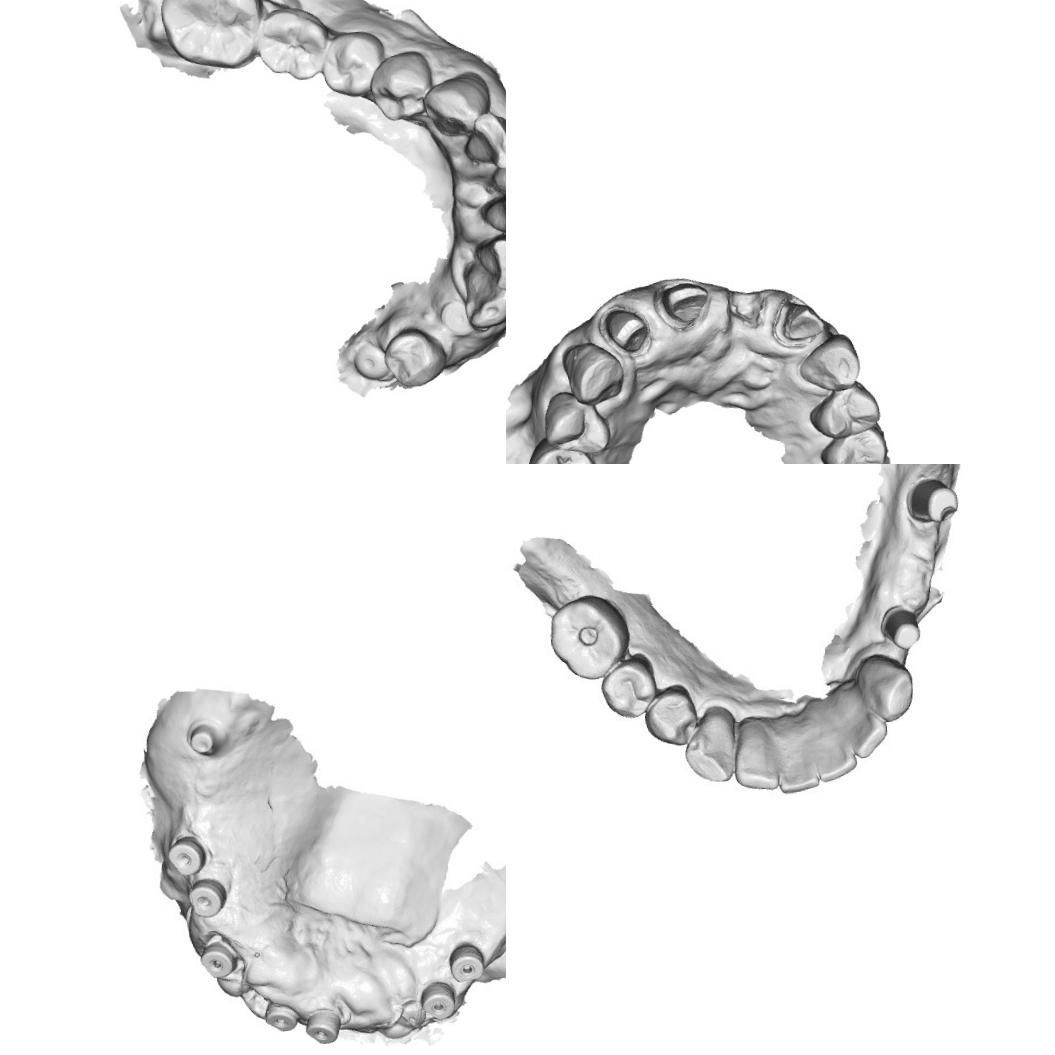abutment: (900, 468, 970, 533), (878, 603, 927, 654), (184, 722, 218, 754)
canine: (420, 68, 493, 141), (792, 330, 864, 396), (558, 340, 626, 408), (683, 708, 736, 785), (856, 659, 914, 722), (461, 261, 506, 330)
crown: (655, 275, 714, 333), (773, 296, 830, 347), (600, 302, 650, 355)
implant: (197, 931, 241, 981), (164, 834, 207, 879), (186, 875, 228, 919), (446, 941, 484, 984), (420, 981, 460, 1021), (350, 338, 384, 384), (302, 1004, 340, 1044), (266, 996, 305, 1034), (438, 299, 467, 342)
incisor: (735, 719, 780, 797), (836, 687, 884, 756), (459, 106, 506, 173), (813, 726, 854, 778), (776, 744, 816, 792), (472, 235, 506, 291), (476, 189, 506, 245), (486, 145, 506, 206)
molar: (152, 0, 266, 75), (544, 591, 630, 683), (249, 0, 332, 84)
premolar: (314, 27, 388, 102), (538, 387, 614, 460), (365, 48, 435, 124), (804, 380, 884, 443), (378, 322, 448, 393), (815, 424, 893, 464), (644, 687, 693, 745), (602, 664, 650, 716), (522, 438, 602, 464)
